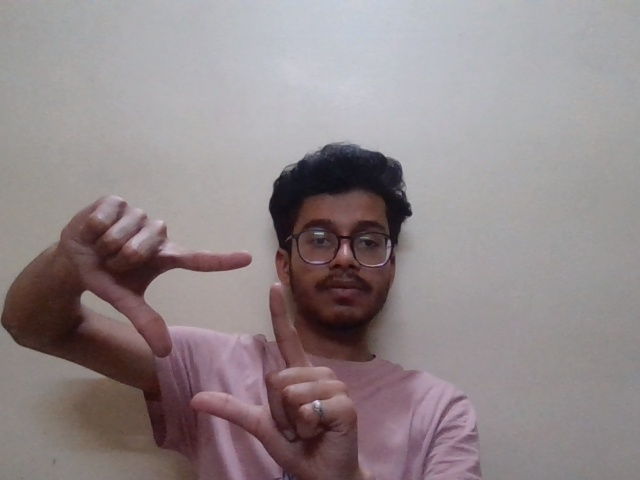video: (49, 193, 372, 454)
